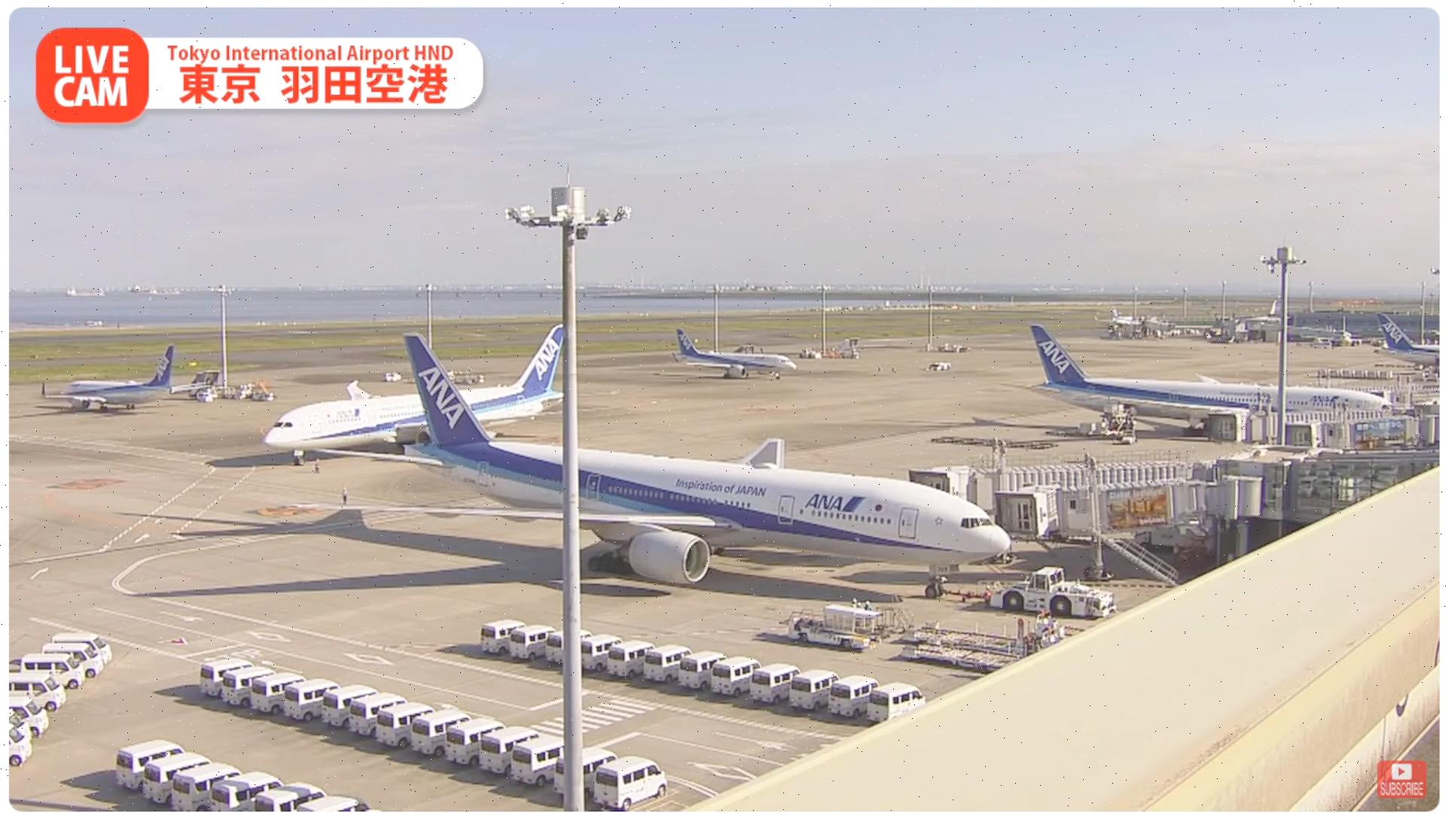APS: (990, 571, 1112, 616)
Aerobridge: (956, 480, 1243, 535), (885, 461, 1213, 481)
Airplane: (290, 330, 1014, 584)
JCPL: (908, 609, 1089, 658), (892, 637, 1027, 671)
Skyloader: (787, 608, 888, 655)
Window: (1270, 448, 1442, 536)
